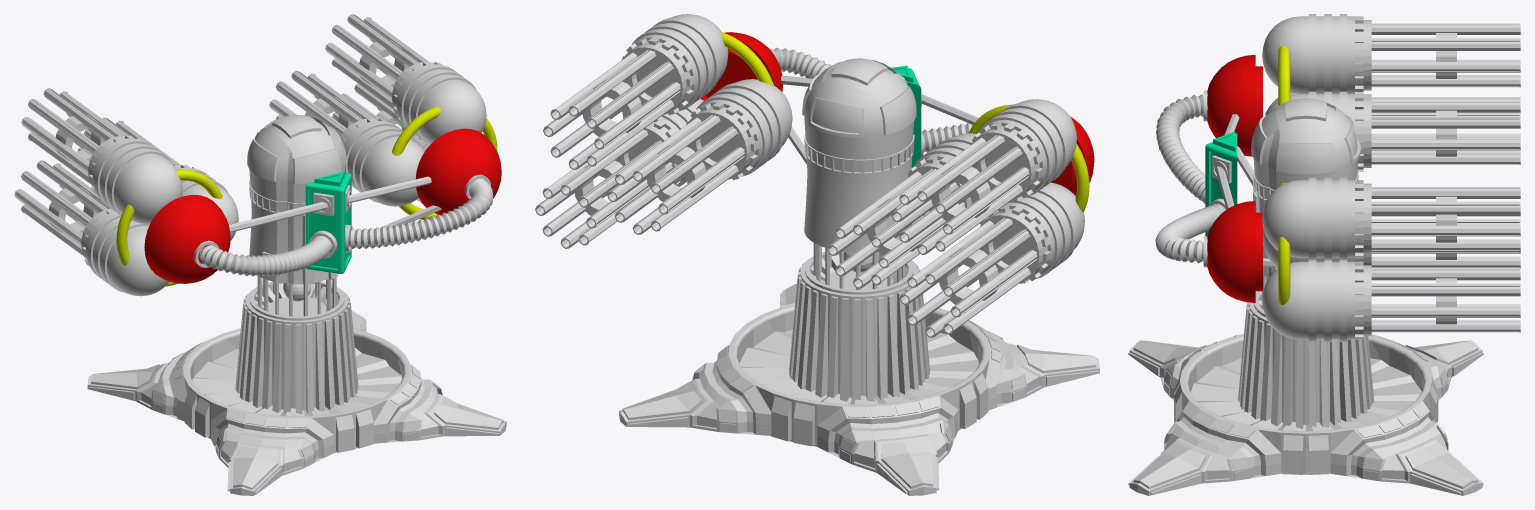
The model's file is MachineGun_LV6-8.fbx.
3 renders of one model, left to right at view 1: azimuth 30°, elevation 25°; view 2: azimuth 150°, elevation 25°; view 3: azimuth 270°, elevation 25°, orthographic. The views are drawn at different scales.
Parts seen in each view (by area): view 1: PLatform.005, Cylinder.040, Cube.084, Cube.070, Cube.066, Turrel.006, Cube.069, Cube.079, Cube.081, Cylinder.044, Cylinder.039, Cylinder.043 (+8 smaller); view 2: PLatform.005, Turrel.006, Cylinder.040, Cube.066, Cube.084, Cube.079, Cube.069, Cube.063, Cube.081, Cube.067, Cube.080, Cube.070 (+11 smaller); view 3: PLatform.005, Cube.066, Cylinder.040, Cube.067, Cube.070, Cube.079, Cube.069, Cube.080, Turrel.006, Cube.084, Cube.063, Cylinder.043 (+9 smaller).
Part boxes in pixels (left/top/right/bottom): PLatform.005: left=87, top=311, right=506, bottom=495; Cylinder.040: left=235, top=281, right=358, bottom=413; Cube.084: left=82, top=135, right=238, bottom=296; Cube.070: left=144, top=128, right=501, bottom=283; Cube.066: left=341, top=61, right=486, bottom=206; Turrel.006: left=247, top=114, right=346, bottom=284; Cube.069: left=325, top=14, right=433, bottom=109; Cube.079: left=21, top=88, right=124, bottom=186; Cube.081: left=14, top=160, right=110, bottom=258; Cylinder.044: left=348, top=178, right=493, bottom=249; Cylinder.039: left=305, top=171, right=351, bottom=273; Cylinder.043: left=199, top=236, right=332, bottom=276; PLatform.005: left=619, top=283, right=1099, bottom=495; Turrel.006: left=802, top=58, right=916, bottom=252; Cylinder.040: left=789, top=251, right=929, bottom=401; Cube.066: left=622, top=14, right=792, bottom=186; Cube.084: left=907, top=99, right=1084, bottom=283; Cube.079: left=891, top=126, right=1039, bottom=254; Cube.069: left=543, top=41, right=690, bottom=169; Cube.063: left=607, top=106, right=754, bottom=234; Cube.081: left=899, top=209, right=1047, bottom=337; Cube.067: left=535, top=122, right=677, bottom=248; Cube.080: left=827, top=160, right=971, bottom=288; Cube.070: left=701, top=32, right=1094, bottom=195; PLatform.005: left=1128, top=333, right=1483, bottom=495; Cube.066: left=1262, top=177, right=1363, bottom=341; Cylinder.040: left=1238, top=291, right=1373, bottom=428; Cube.067: left=1355, top=265, right=1520, bottom=335; Cube.070: left=1207, top=54, right=1262, bottom=302; Cube.079: left=1355, top=20, right=1520, bottom=90; Cube.069: left=1355, top=183, right=1520, bottom=254; Cube.080: left=1355, top=97, right=1520, bottom=167; Turrel.006: left=1251, top=98, right=1360, bottom=277; Cube.084: left=1262, top=14, right=1363, bottom=171; Cube.063: left=1355, top=214, right=1520, bottom=268; Cylinder.043: left=1156, top=94, right=1205, bottom=203.
Size of the model in its own units: 386 by 282 by 311.
